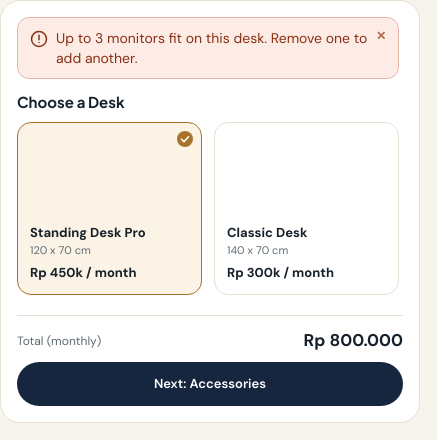
Test: OptionsPanel › dismissing a notice clears it
Check: the message shows "Up to 3 monitors", box [56,29,367,67]
Click the button named "Dismiss message".
click(381, 36)  # box [376,28,386,44]
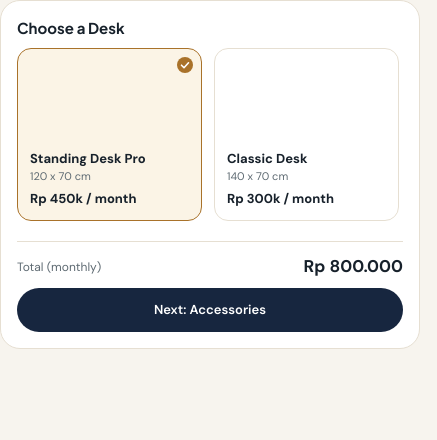
Check: the message "Up to 3 monitors fit on this desk. Remove one to add another. ✕" is gone
